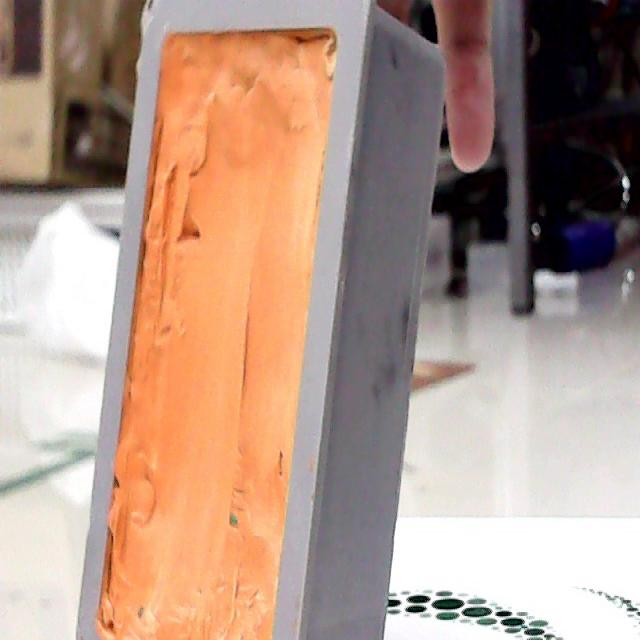block: (72, 0, 440, 639)
